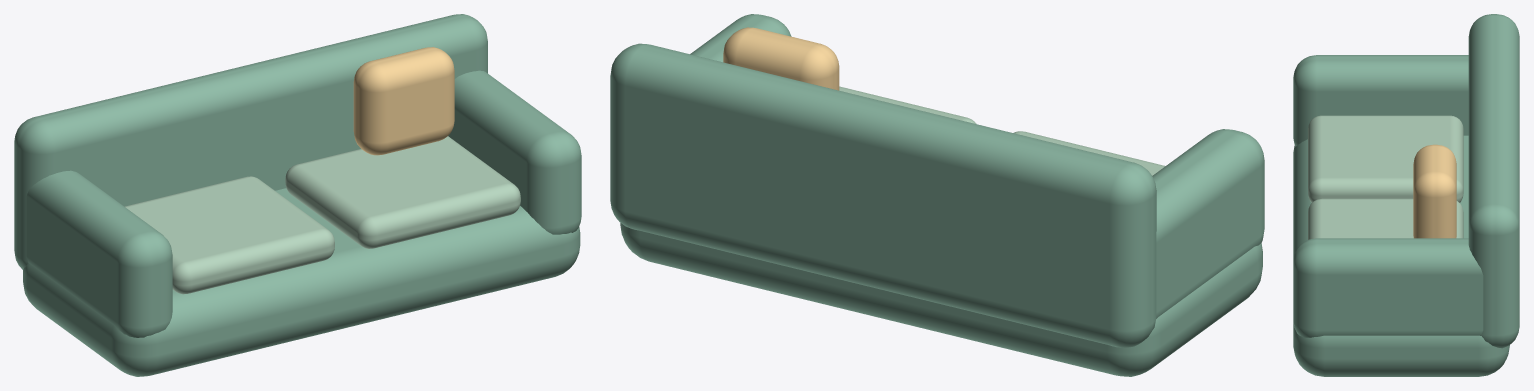
The model's file is sofa.glb.
3 views of the same model, side by side, from view 1: azimuth 30°, elevation 25°; view 2: azimuth 150°, elevation 25°; view 3: azimuth 270°, elevation 25° (orthographic). The views are drawn at different scales.
Parts seen in each view (by area): view 1: sofa; view 2: sofa; view 3: sofa.
Part boxes in pixels (x1,y1,x2,y2): sofa: (14, 14, 581, 376); sofa: (610, 14, 1264, 376); sofa: (1293, 14, 1519, 376).
Bounding box in the file's own units: 2.5 × 1 × 1.15.
